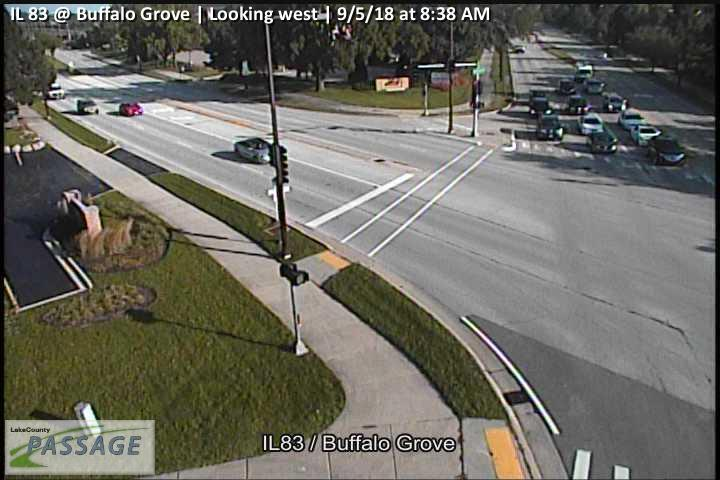SUV: (536, 113, 563, 142), (528, 96, 552, 120), (568, 95, 588, 115)
Sedan: (648, 135, 686, 165), (234, 137, 272, 164), (617, 108, 646, 131), (630, 125, 661, 146), (588, 132, 618, 153), (577, 112, 603, 135), (119, 102, 144, 117), (77, 100, 100, 114), (47, 82, 64, 99)
